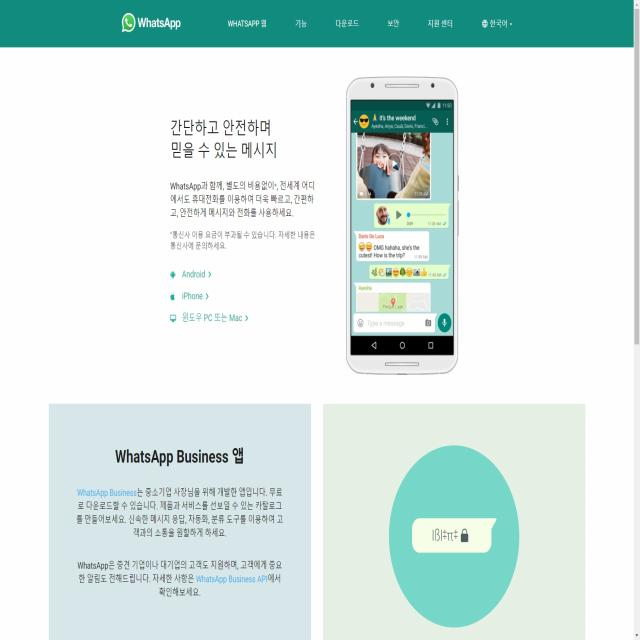menu-bar: (223, 13, 516, 33)
